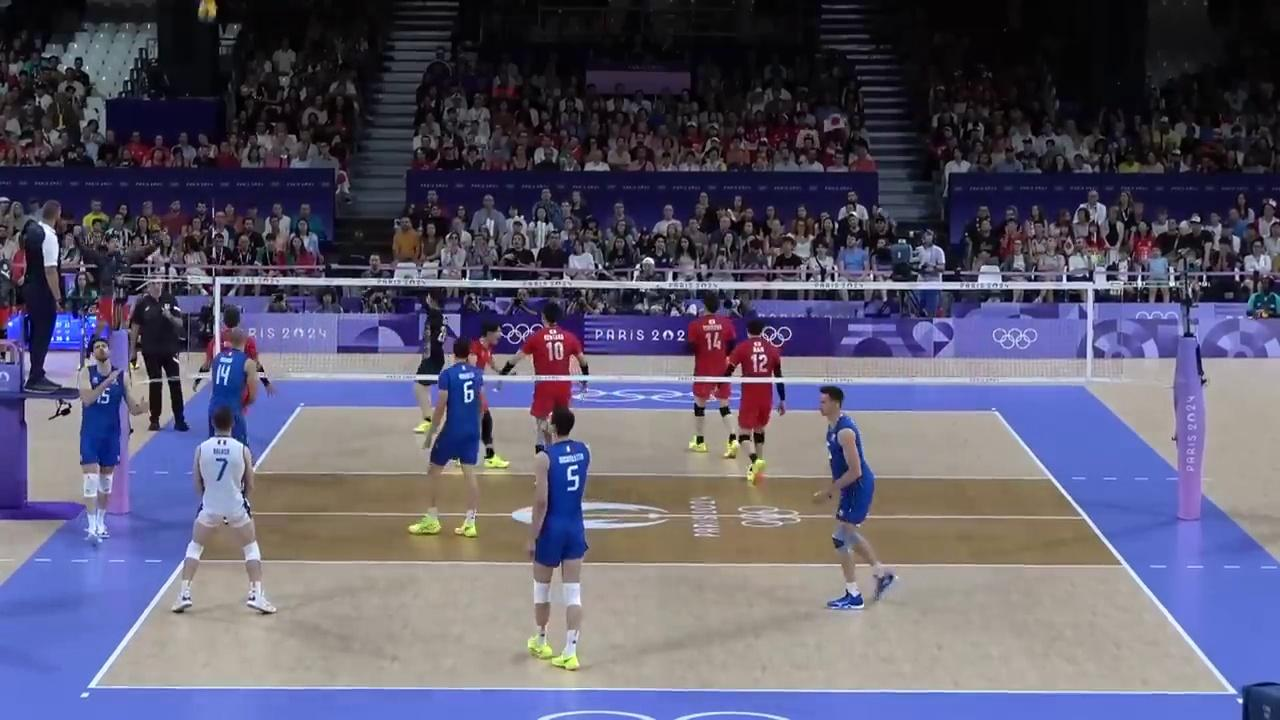ball: (197, 0, 217, 22)
